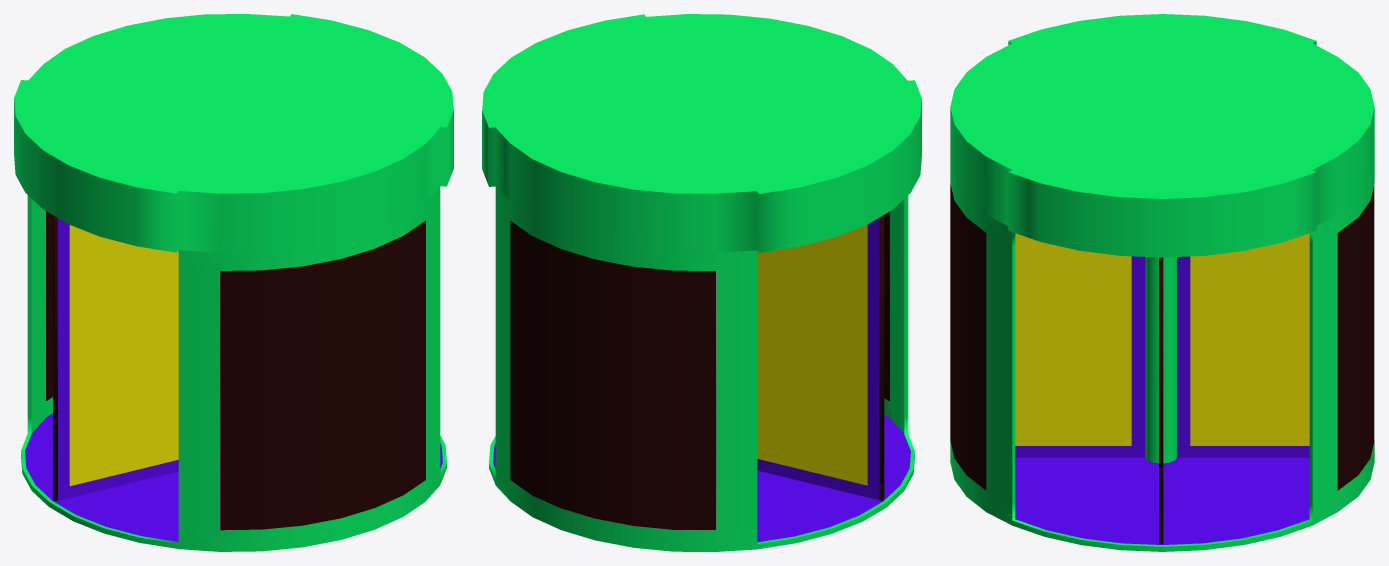
File: RevolvingDoor.FBX
3 renders of one model, left to right at view 1: azimuth 30°, elevation 25°; view 2: azimuth 150°, elevation 25°; view 3: azimuth 270°, elevation 25°, orthographic.
Visible parts, largest first — view 1: Chamber, Door; view 2: Chamber, Door; view 3: Chamber, Door.
Part boxes in pixels (<box>): Chamber: <box>14,14,453,551</box>; Door: <box>53,215,178,501</box>; Chamber: <box>482,14,921,551</box>; Door: <box>757,215,884,500</box>; Chamber: <box>950,14,1374,551</box>; Door: <box>1015,233,1309,544</box>.
Size of the model in its own units: 128 by 114 by 124.
